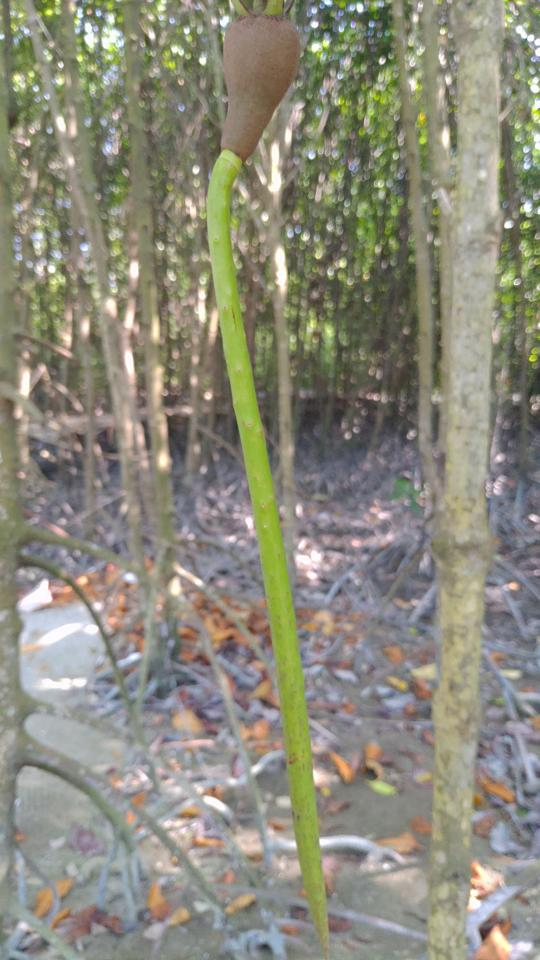setengah matang: (197, 6, 354, 955)
